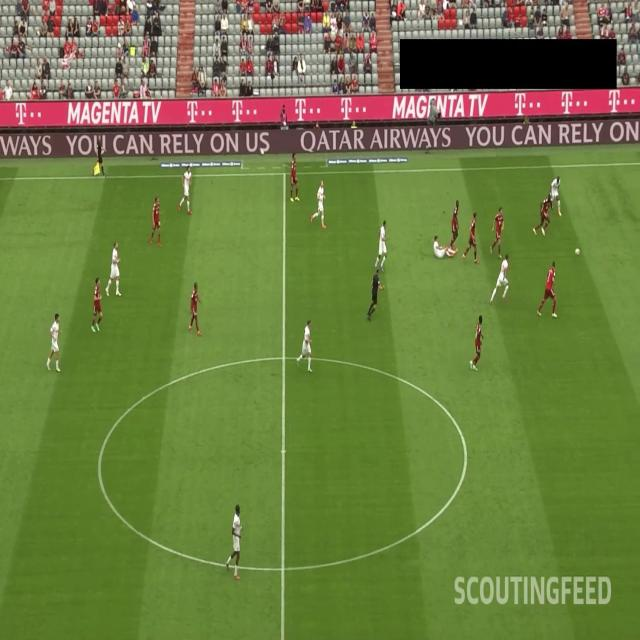ball: (571, 243, 582, 260)
player: (225, 497, 245, 582), (535, 259, 558, 318), (489, 248, 511, 304), (295, 316, 315, 373), (469, 309, 486, 372), (309, 176, 329, 229), (187, 280, 204, 340), (532, 191, 554, 237), (46, 308, 61, 373), (176, 162, 194, 216), (446, 189, 462, 249), (488, 201, 504, 260), (105, 240, 121, 298), (90, 274, 106, 331), (374, 213, 388, 276), (431, 230, 460, 260), (464, 208, 480, 262), (148, 191, 162, 247), (547, 171, 563, 219), (288, 150, 301, 203)
referee: (365, 269, 388, 321), (91, 135, 109, 181)
